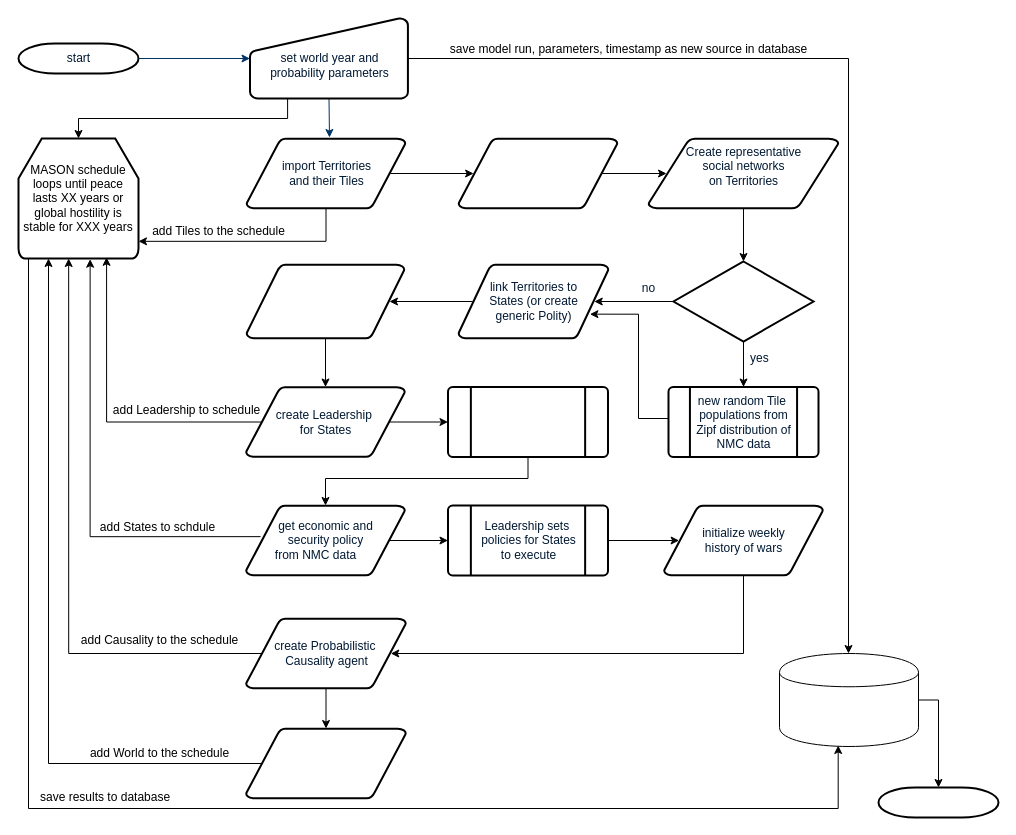
Some shapes in this 1016 by 835 pixel diagram are drawn without their labels. Here are the shapes that lost their labels. From the top down, the box of each, then its label:
(457, 137, 618, 209): rehydrate Territory objects with 1st order relations
(245, 263, 405, 339): load institutional data for States
(672, 260, 814, 342): new population baseline?
(446, 386, 608, 458): configure Leadership with Polity IV data
(244, 727, 406, 799): create the World steppable
(877, 786, 999, 818): end
